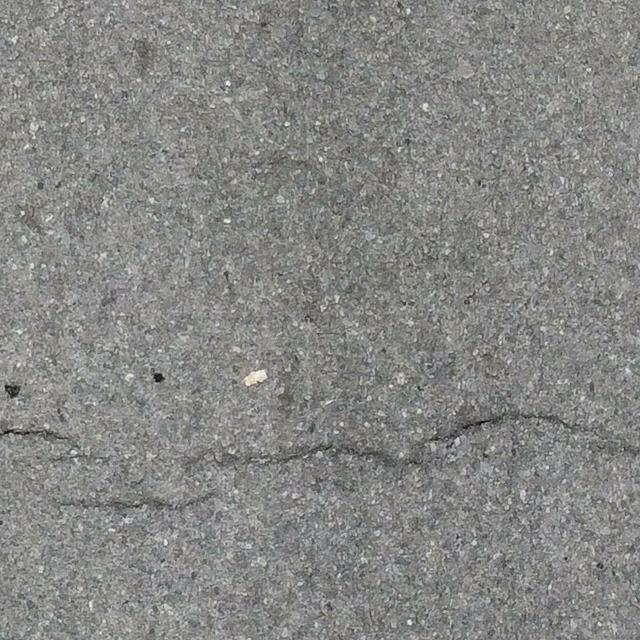TransverseCrack: (181, 413, 640, 469), (1, 426, 111, 462), (60, 488, 213, 512)
